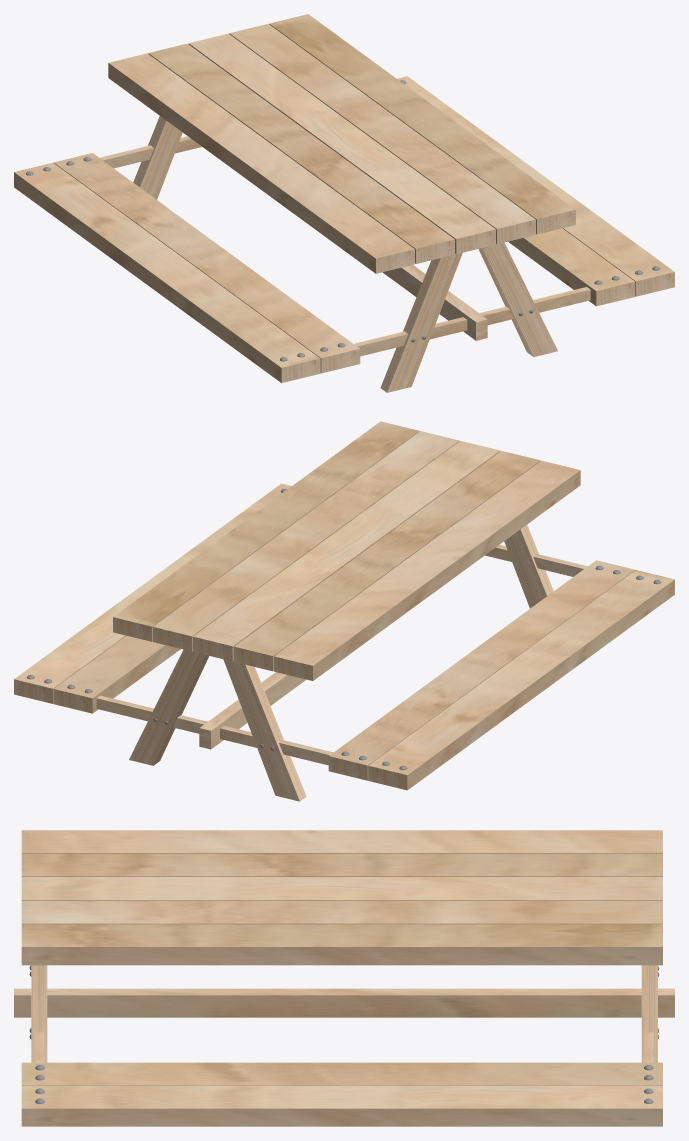
The model's file is Mesa_Picnic.fbx.
3 views of the same model, one above another, from view 1: azimuth 30°, elevation 25°; view 2: azimuth 150°, elevation 25°; view 3: azimuth 270°, elevation 25° (orthographic). The views are drawn at different scales.
Parts seen in each view (by area): view 1: Mesa_Picnic; view 2: Mesa_Picnic; view 3: Mesa_Picnic.
Boxes of the visible parts, x1,y1,x2,y2 form: Mesa_Picnic: (14, 14, 674, 392); Mesa_Picnic: (14, 421, 674, 801); Mesa_Picnic: (14, 830, 674, 1126).
Bounding box in the file's own units: 887 × 304 × 1077.
Materials: 2 (1 with a texture image).
